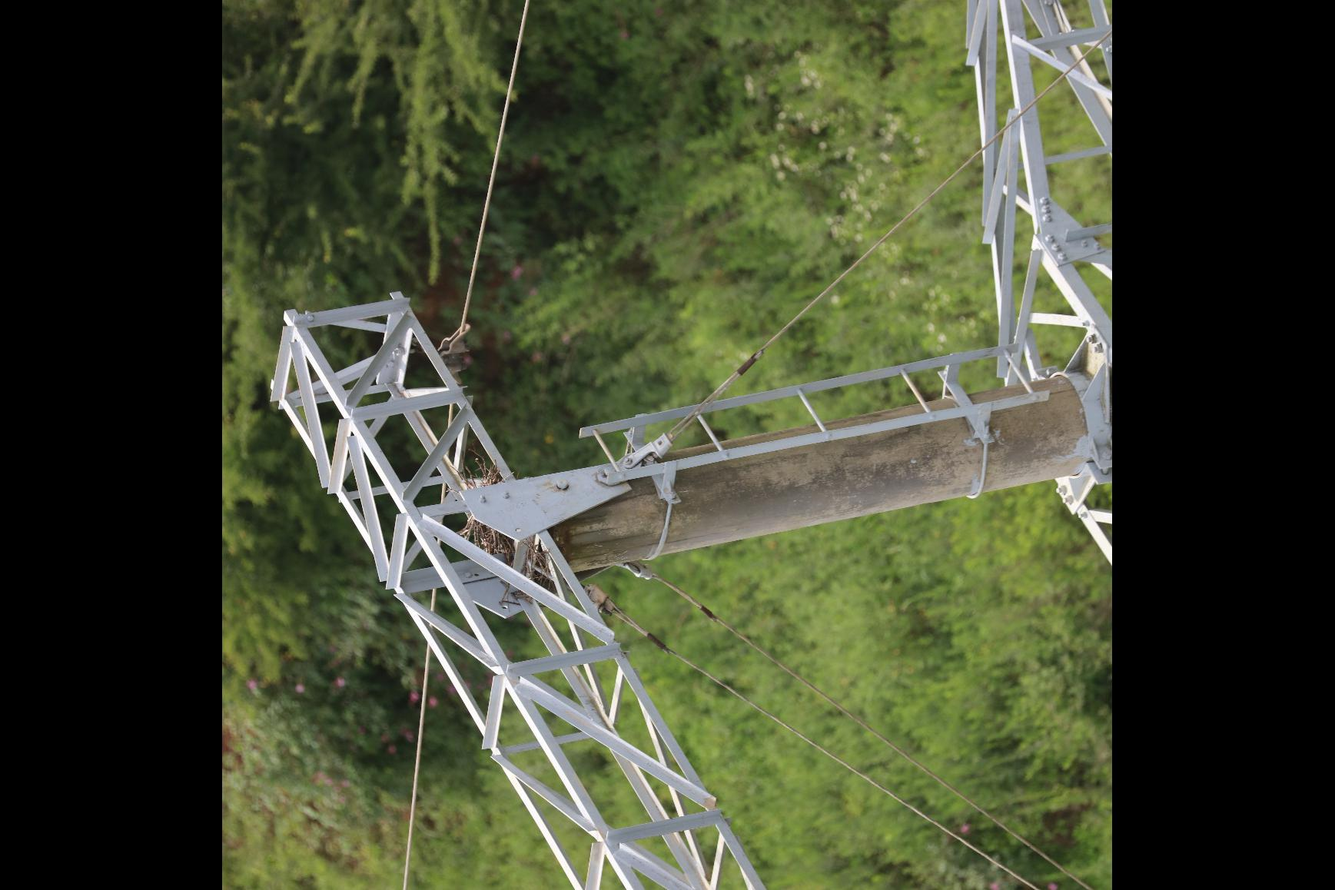nest: (450, 457, 516, 561)
